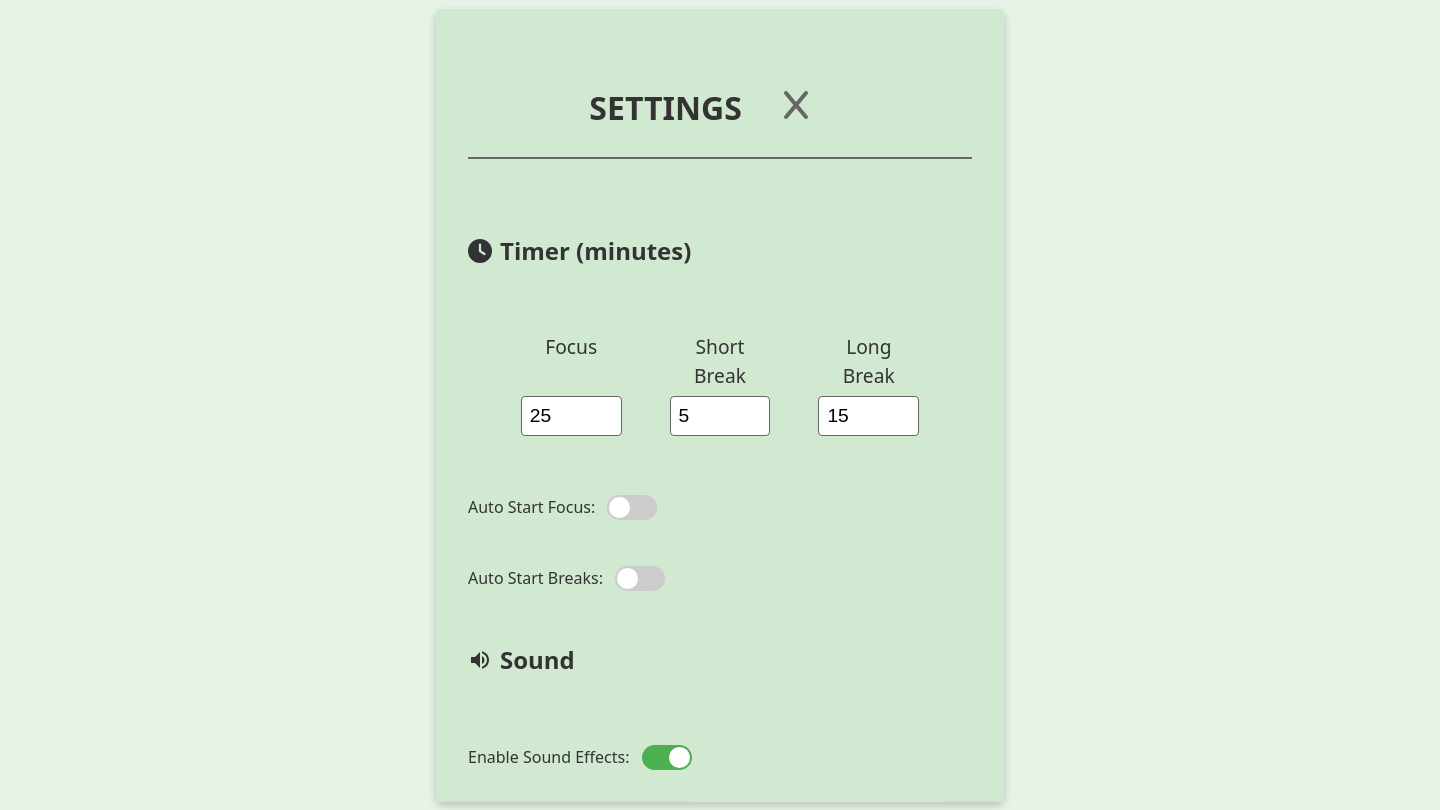
Setting Component › toggles sound enable checkbox and disables sound inputs
Click the checkbox labelled "Enable Sound Effects:" at (666, 757), box [642, 744, 692, 769]
(page scrolled)
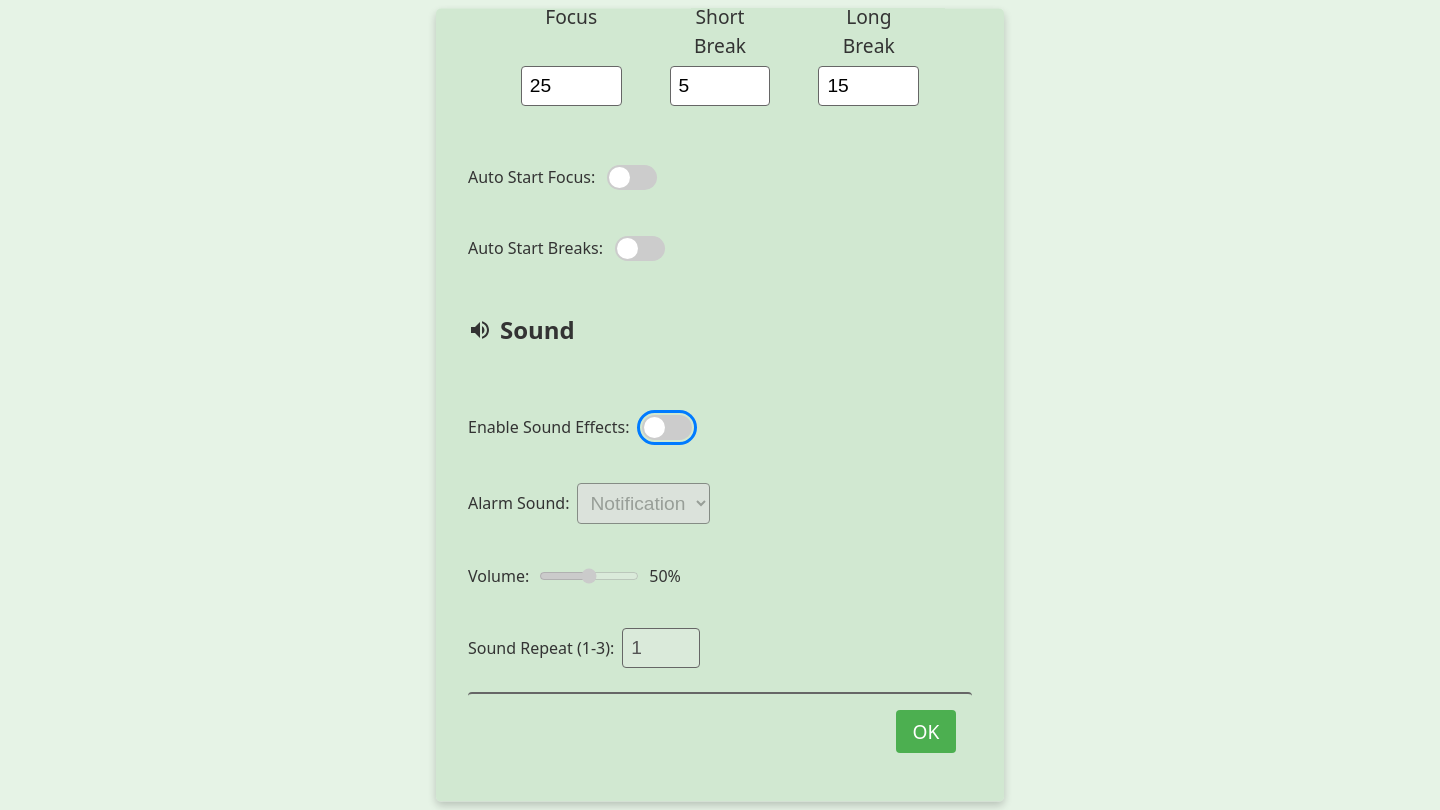
Check: the checkbox labelled "Enable Sound Effects:" is not checked, box [642, 415, 692, 440]
Check: the dropdown labelled "Alarm Sound:" is disabled, box [577, 483, 710, 524]
Check: the slider labelled "Volume:" is disabled, box [539, 568, 639, 584]
